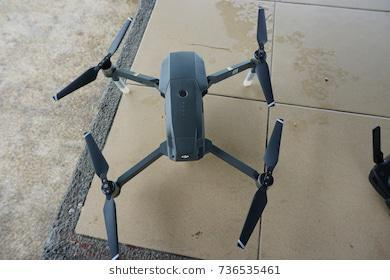drone: (48, 0, 312, 257)
